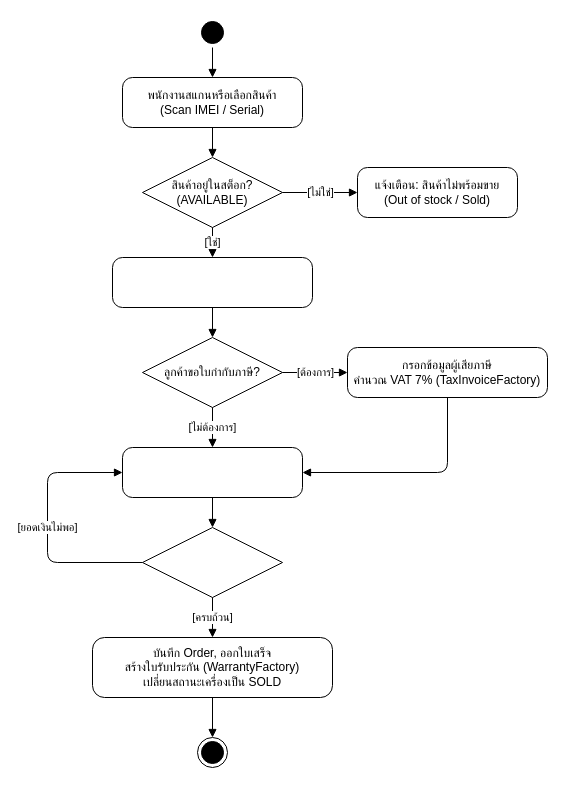
This 565x785 diagram has some shape labels left out. The shapes that lost their labels are listed below. From the top down, each one's centre as x and y in pixels, then its label:
(x=212, y=282): เพิ่มสินค้าลงรายการขาย คำนวณส่วนลด (Discount Strategy)
(x=212, y=472): ระบุวิธีชำระเงินและรับยอดชำระ (CASH / QR / CREDIT)
(x=212, y=562): ยอดชำระครบถ้วน?
